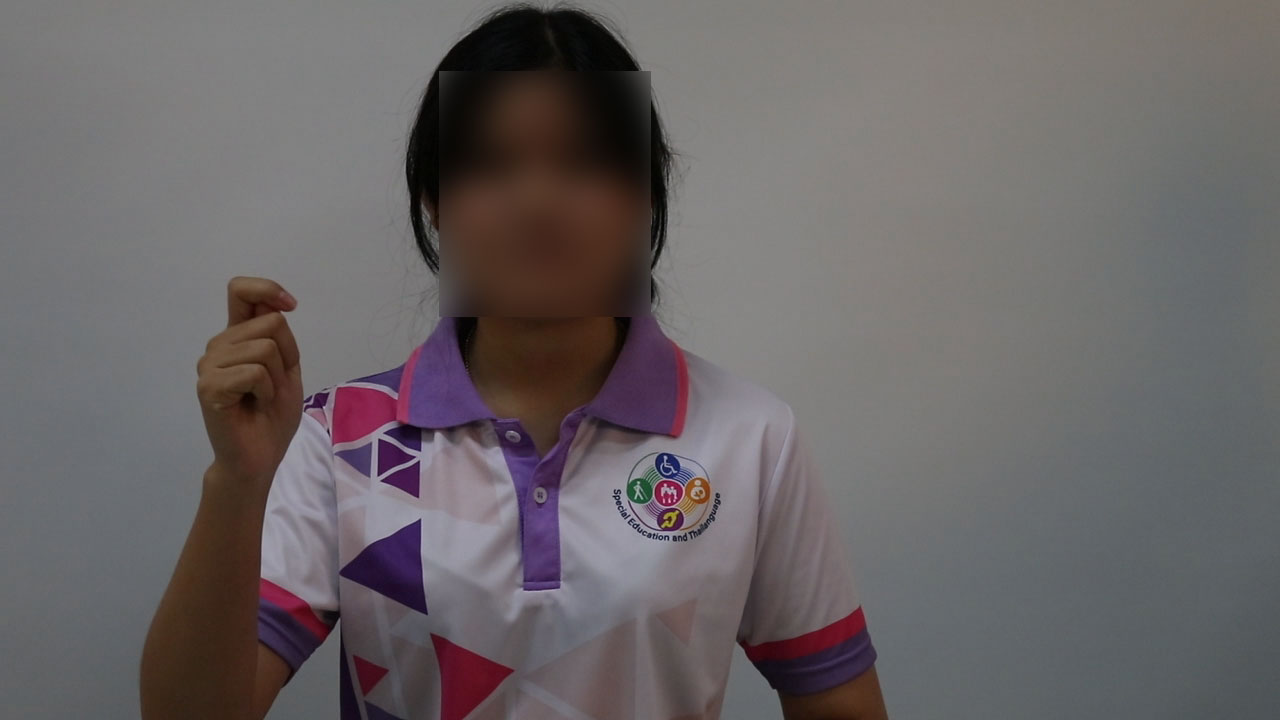or: (182, 270, 320, 485)
